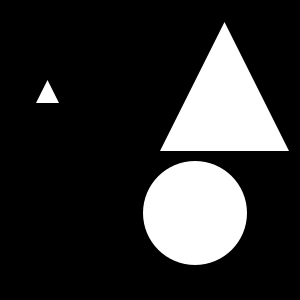rectangle: (143, 161, 247, 265)
triangle: (160, 22, 289, 151), (36, 80, 59, 103)
